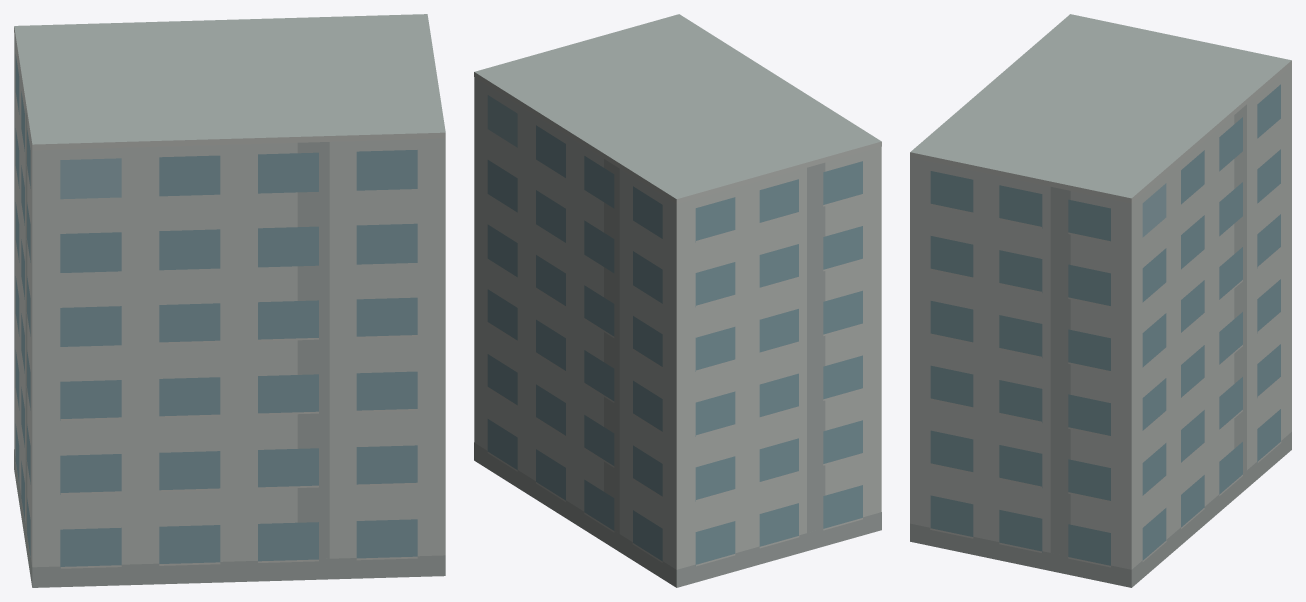
File: survey-upis-32842174.glb
The picture shows the model from 3 angles, left to right: view 1: azimuth 30°, elevation 25°; view 2: azimuth 150°, elevation 25°; view 3: azimuth 270°, elevation 25°; orthographic projection. The views are drawn at different scales.
Parts seen in each view (by area): view 1: survey-upis-32842174.tmp; view 2: survey-upis-32842174.tmp; view 3: survey-upis-32842174.tmp.
Boxes of the visible parts, <box> form: survey-upis-32842174.tmp: <box>14,14,445,587</box>; survey-upis-32842174.tmp: <box>474,14,881,587</box>; survey-upis-32842174.tmp: <box>910,14,1291,587</box>.
Size of the model in its own units: 18.59 by 18.3 by 16.26.
